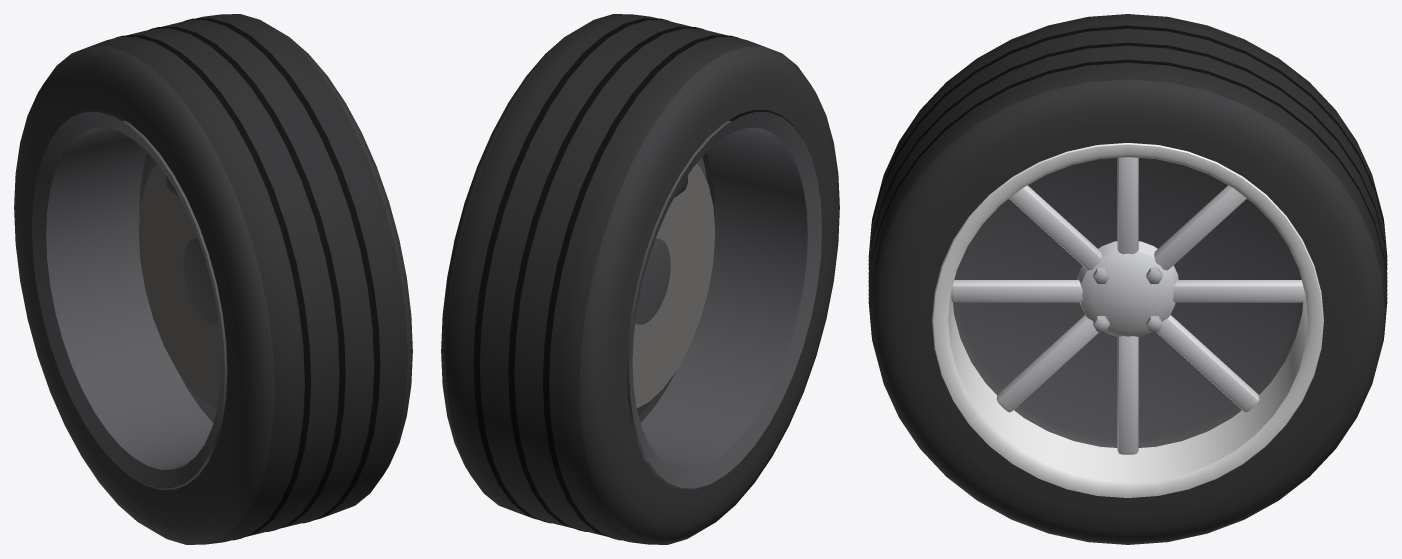
File: wheel_nw_deep_dish.glb
3 views of the same model, side by side, from view 1: azimuth 30°, elevation 25°; view 2: azimuth 150°, elevation 25°; view 3: azimuth 270°, elevation 25° (orthographic).
Visible parts, largest first — view 1: wheel_nw_deep_dish; view 2: wheel_nw_deep_dish; view 3: wheel_nw_deep_dish.
Part boxes in pixels (<box>): wheel_nw_deep_dish: <box>14,14,412,544</box>; wheel_nw_deep_dish: <box>441,14,839,544</box>; wheel_nw_deep_dish: <box>868,14,1387,544</box>.
Bounding box in the file's own units: 0.222 × 0.5812 × 0.5812.
Materials: 1 (1 with a texture image).
